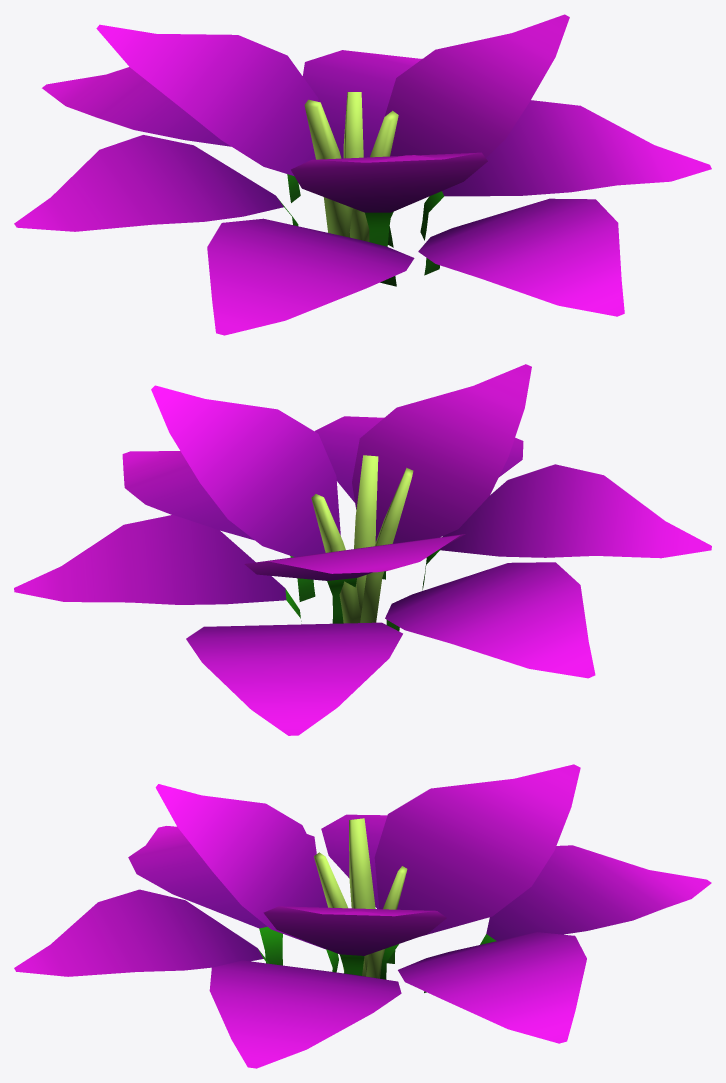
The model's file is VEG0310001.fbx.
3 views of the same model, one above another, from view 1: azimuth 30°, elevation 25°; view 2: azimuth 150°, elevation 25°; view 3: azimuth 270°, elevation 25° (orthographic). The views are drawn at different scales.
Visible parts, largest first — view 1: smVEG0310001; view 2: smVEG0310001; view 3: smVEG0310001.
Part boxes in pixels (x1,y1,x2,y2): smVEG0310001: (14, 14, 711, 335); smVEG0310001: (14, 364, 711, 735); smVEG0310001: (14, 764, 711, 1068).
Bounding box in the file's own units: 129 × 39.7 × 145.
Materials: 1 (1 with a texture image).
